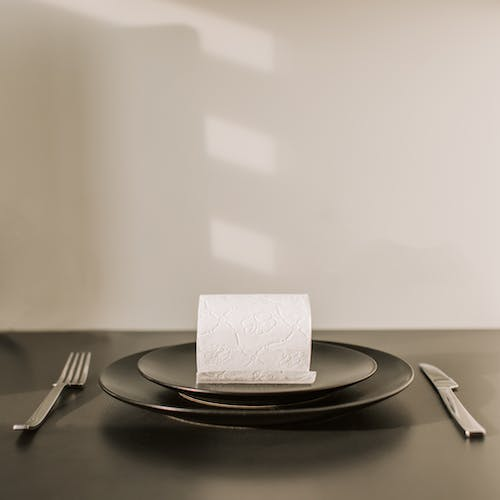knife: (418, 360, 489, 441)
